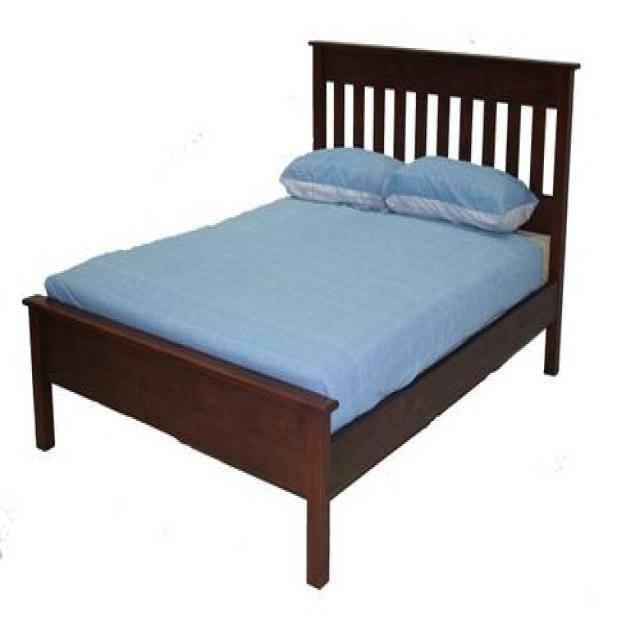bed: (21, 37, 581, 588)
